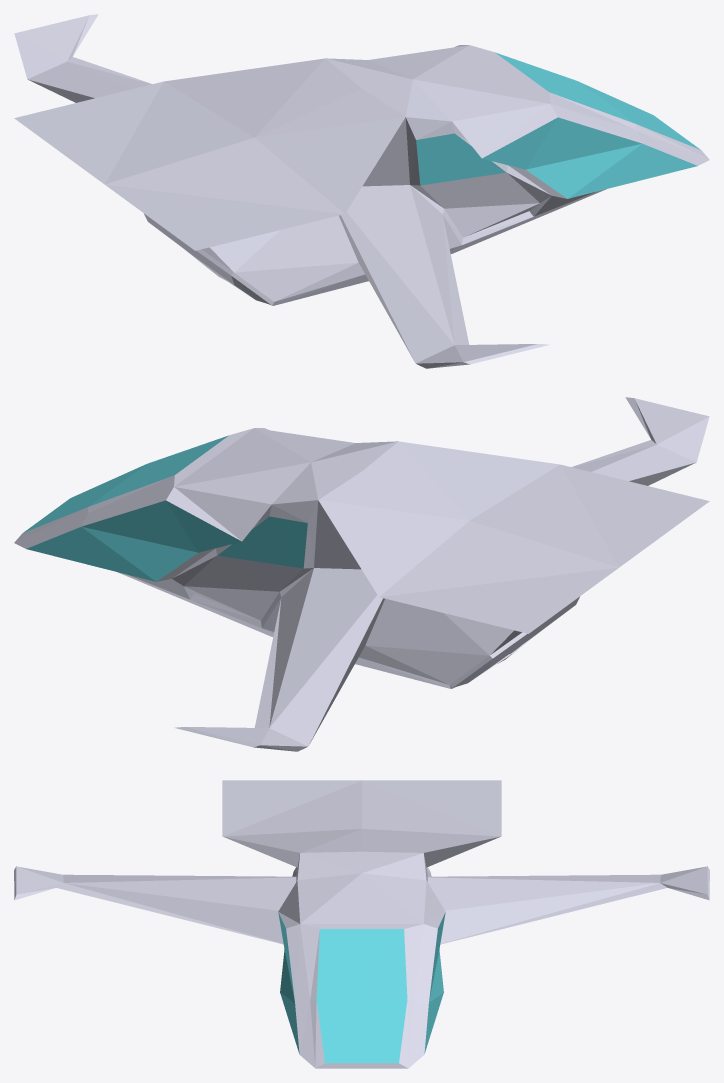
The model's file is PlayerModel.fbx.
3 renders of one model, top to bottom at view 1: azimuth 30°, elevation 25°; view 2: azimuth 150°, elevation 25°; view 3: azimuth 270°, elevation 25°, orthographic. The views are drawn at different scales.
Visible parts, largest first — view 1: PlayerShip; view 2: PlayerShip; view 3: PlayerShip.
Part boxes in pixels (<box>): PlayerShip: <box>14,14,709,368</box>; PlayerShip: <box>14,397,709,751</box>; PlayerShip: <box>14,780,709,1068</box>.
Size of the model in its own units: 778 by 239 by 1060.
